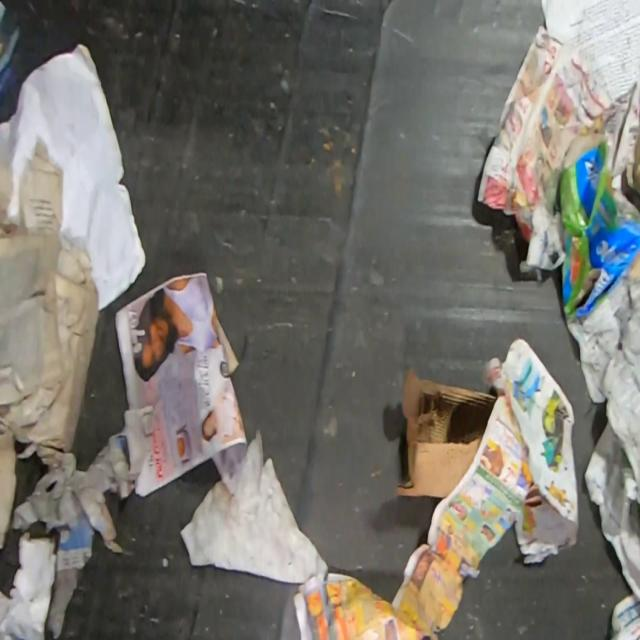cardboard: (557, 131, 640, 319), (395, 364, 497, 498)
